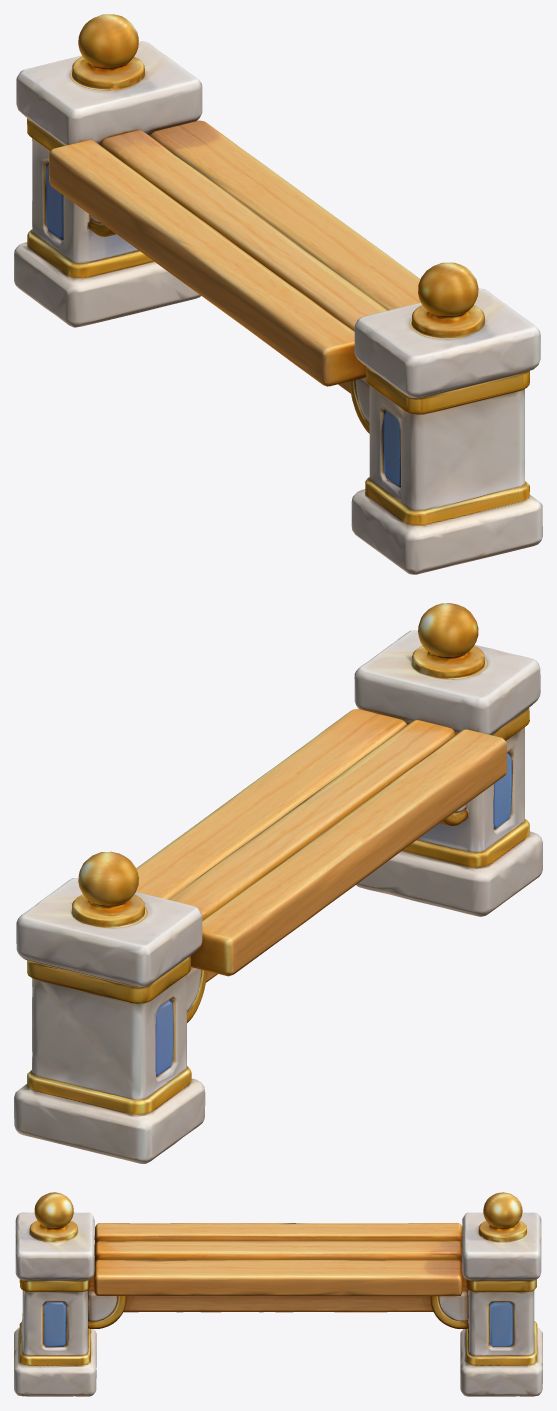
Rendered from HaloReasonHQ_BenchC_HD_src.glb.
3 renders of one model, top to bottom at view 1: azimuth 30°, elevation 25°; view 2: azimuth 150°, elevation 25°; view 3: azimuth 270°, elevation 25°, orthographic. The views are drawn at different scales.
Visible parts, largest first — view 1: tripo_node_7b645e92-1767-4cb7-aa58-773da7f01ac0; view 2: tripo_node_7b645e92-1767-4cb7-aa58-773da7f01ac0; view 3: tripo_node_7b645e92-1767-4cb7-aa58-773da7f01ac0.
Part boxes in pixels (<box>): tripo_node_7b645e92-1767-4cb7-aa58-773da7f01ac0: <box>14,14,542,574</box>; tripo_node_7b645e92-1767-4cb7-aa58-773da7f01ac0: <box>14,603,542,1163</box>; tripo_node_7b645e92-1767-4cb7-aa58-773da7f01ac0: <box>14,1192,542,1396</box>.
Bounding box in the file's own units: 0.2292 × 0.3718 × 0.9799.
Materials: 1 (1 with a texture image).
